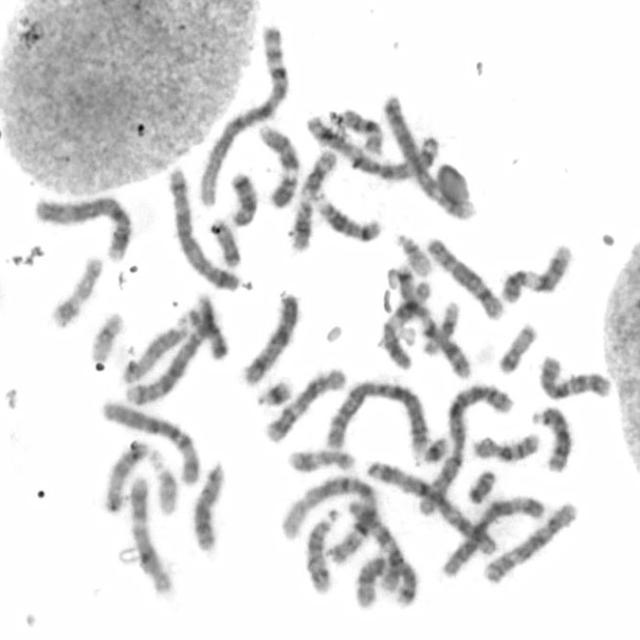A1: (194, 22, 291, 209), (277, 472, 382, 566)
A2: (415, 379, 515, 518), (322, 378, 432, 455)
A3: (365, 459, 500, 556), (306, 115, 457, 183)
B4: (380, 90, 477, 223), (30, 191, 135, 264)
B5: (122, 292, 216, 406), (164, 163, 241, 292)
C10: (346, 497, 408, 596), (536, 350, 612, 402)
C11: (289, 147, 337, 254), (378, 276, 432, 371)
C12: (261, 364, 348, 446), (127, 472, 175, 596)
C6: (436, 491, 547, 579), (98, 396, 201, 486)
C7: (384, 264, 472, 380), (352, 554, 421, 610)
C8: (480, 503, 581, 586), (423, 233, 505, 322)
C9: (497, 240, 574, 306), (253, 119, 301, 209)
D13: (188, 459, 226, 553), (529, 403, 573, 473)
D14: (311, 188, 382, 244), (302, 506, 341, 596)
D15: (118, 318, 190, 385), (99, 437, 149, 515)
E16: (340, 102, 394, 156), (472, 430, 542, 466)
E17: (46, 253, 106, 330), (284, 444, 358, 476)
E18: (174, 308, 230, 362), (226, 167, 259, 230)
F19: (418, 297, 462, 356), (85, 308, 126, 362)
F20: (494, 320, 539, 376), (210, 220, 242, 272)
G21: (252, 374, 294, 409), (420, 433, 450, 465)
G22: (147, 450, 180, 517), (391, 229, 433, 277)
X: (238, 289, 301, 387)
Y: (463, 465, 498, 505)
